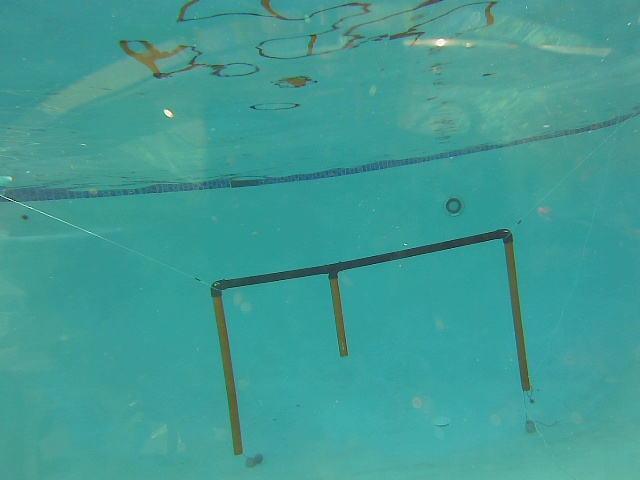Gate: (209, 290, 246, 458), (502, 239, 533, 394), (325, 275, 351, 359)
